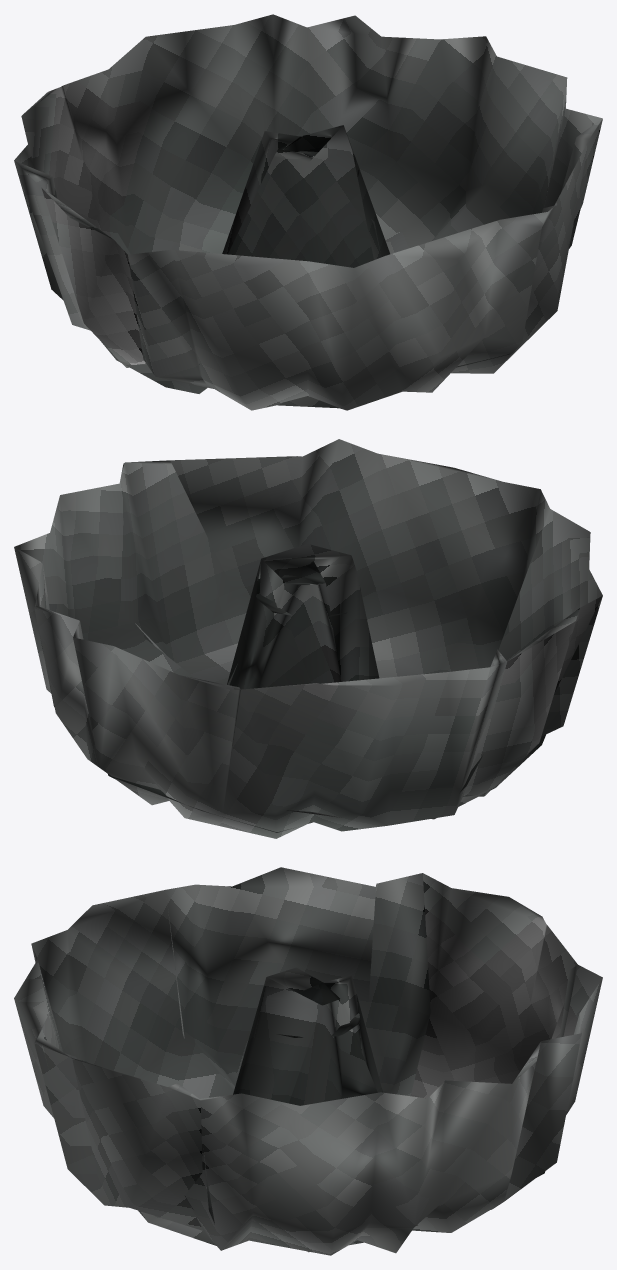
File: Nordic_Ware_Original_Bundt_Pan-low.glb
The picture shows the model from 3 angles, top to bottom: view 1: azimuth 30°, elevation 25°; view 2: azimuth 150°, elevation 25°; view 3: azimuth 270°, elevation 25°; orthographic projection.
Visible parts, largest first — view 1: Nordic_Ware_Original_Bundt_Pan; view 2: Nordic_Ware_Original_Bundt_Pan; view 3: Nordic_Ware_Original_Bundt_Pan.
Boxes of the visible parts, <box> form: Nordic_Ware_Original_Bundt_Pan: <box>14,14,602,410</box>; Nordic_Ware_Original_Bundt_Pan: <box>14,439,602,838</box>; Nordic_Ware_Original_Bundt_Pan: <box>14,867,602,1255</box>.
Bounding box in the file's own units: 0.2619 × 0.0992 × 0.2628.
1 material, 1 textured.
